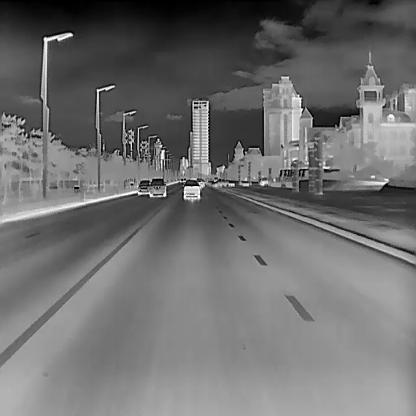car: (182, 179, 200, 200), (149, 176, 165, 196), (136, 179, 150, 195), (211, 178, 228, 186), (258, 176, 268, 186)
